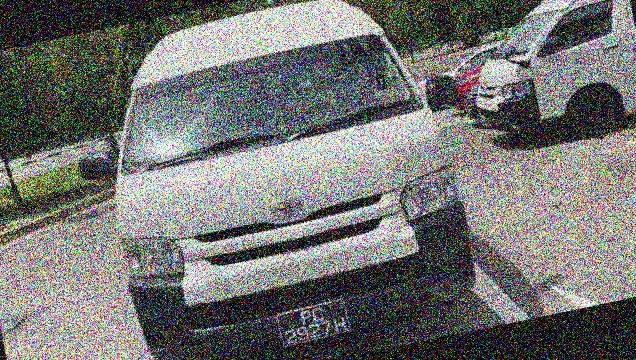van: (80, 0, 489, 360)
